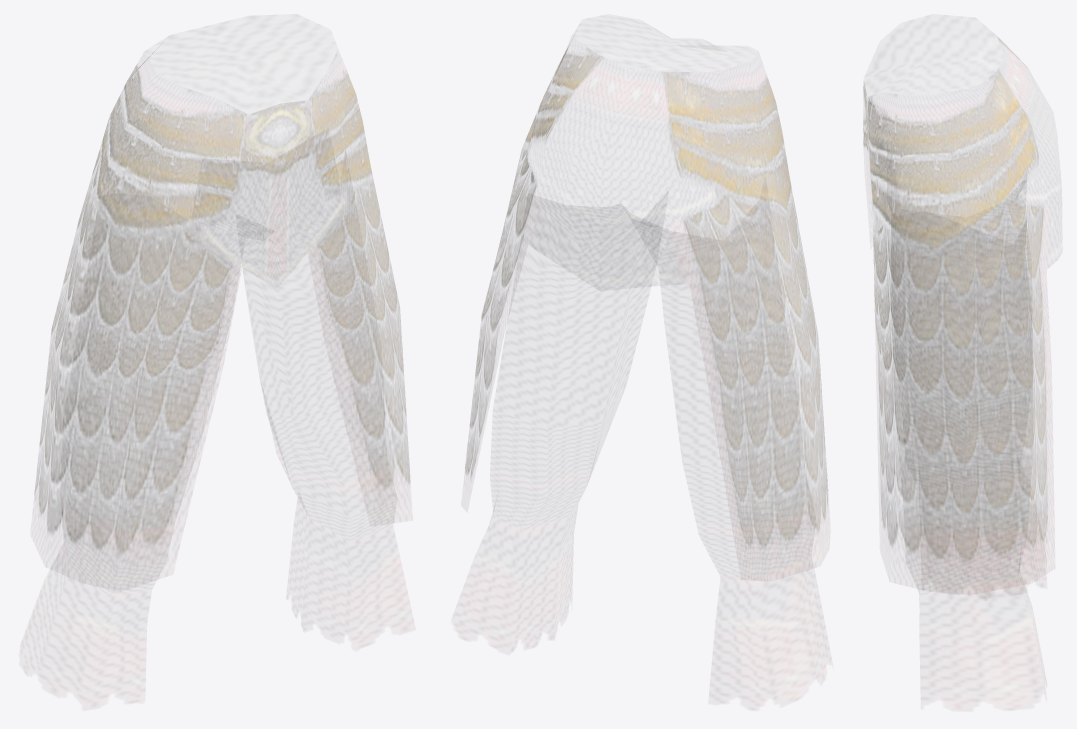
Rendered from heavy_03_la.glb.
3 views of the same model, side by side, from view 1: azimuth 30°, elevation 25°; view 2: azimuth 150°, elevation 25°; view 3: azimuth 270°, elevation 25° (orthographic). The views are drawn at different scales.
Visible parts, largest first — view 1: Heavy_03_la; view 2: Heavy_03_la; view 3: Heavy_03_la.
Boxes of the visible parts, left/top/right/bottom form: Heavy_03_la: left=34, top=42, right=410, bottom=591; Heavy_03_la: left=465, top=31, right=827, bottom=580; Heavy_03_la: left=863, top=38, right=1047, bottom=599.
Bounding box in the file's own units: 0.4995 × 0.8133 × 0.2495.
1 material, 1 textured.
